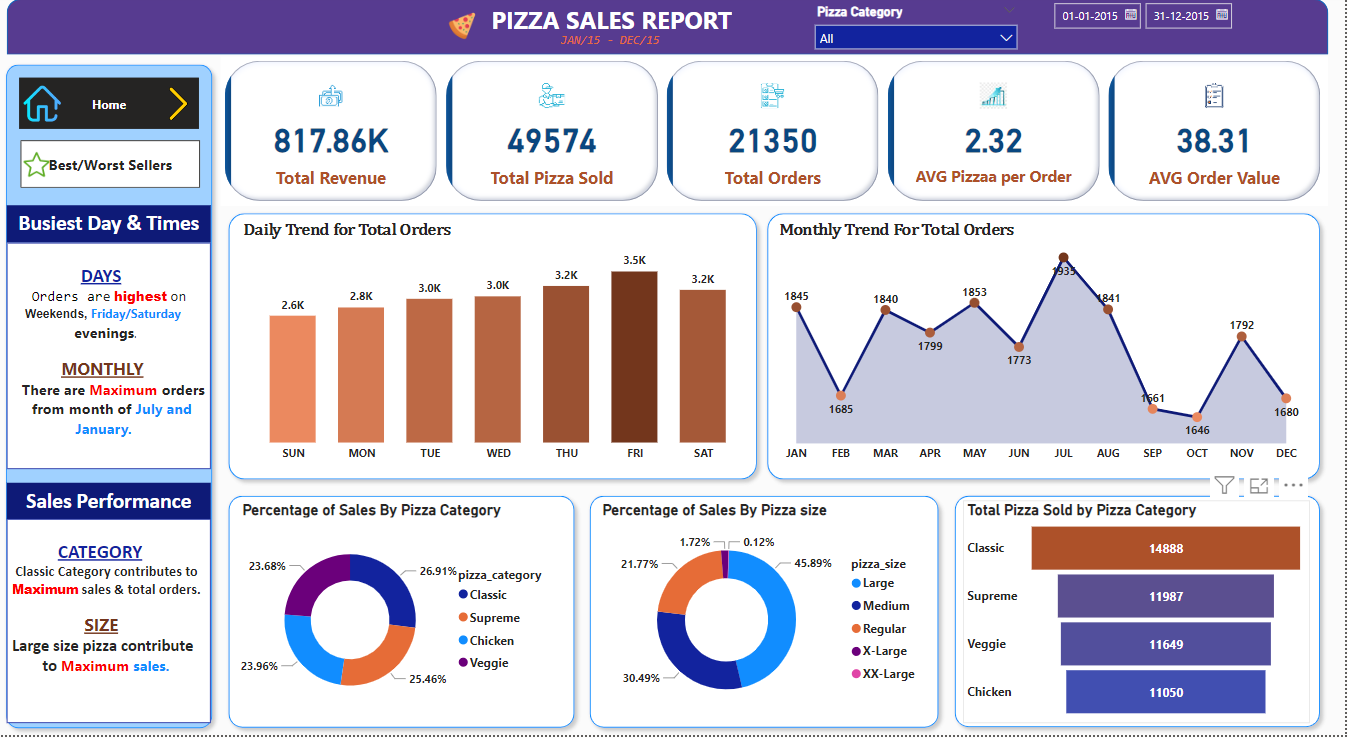

The page's visual inventory and layout, read from the dashboard file:
{"tool":"powerbi","page":{"name":"Home","canvas":[1500,820],"ordinal":0},"visuals":[{"type":"shape","box":[9.9,0,1471.8,62],"z":0,"group":"g1"},{"type":"cardVisual","fields":{"Data":["pizza_sales.Total Reveue","pizza_sales.Total Pizza Sold","pizza_sales.Total Orders","pizza_sales.Avg Pizzaa per Order","pizza_sales.AVG Order Value"]},"box":[247.6,63.5,1233.3,166.7],"z":0},{"type":"group","id":"g1","title":"Group 1","box":[9.9,0,1471.8,62],"z":1000},{"type":"textbox","box":[537.4,0,291.8,62],"z":1000,"group":"g1"},{"type":"textbox","box":[612.7,31,138,31],"z":2000},{"type":"image","box":[475.6,9.6,81.9,40.2],"z":3000},{"type":"shape","box":[247.6,230.2,606.3,314.3],"z":4000},{"type":"columnChart","title":"Daily Trend for Total Orders","fields":{"Category":["pizza_sales.Order day"],"Y":["pizza_sales.Total Orders"]},"box":[266.7,246,581,277.8],"z":5000},{"type":"shape","box":[847.6,230.2,633.3,314.3],"z":6000},{"type":"areaChart","title":"Monthly Trend For Total Orders","fields":{"Y":["pizza_sales.Total Orders"],"Category":["pizza_sales.Order Month"]},"box":[865.1,246,595.2,277.8],"z":7000},{"type":"shape","box":[247.6,544.4,403.2,276.2],"z":8000},{"type":"shape","box":[1056.7,544.3,424.6,275.7],"z":9000},{"type":"shape","box":[650.8,544.4,406.3,276.2],"z":10000},{"type":"donutChart","title":"Percentage of Sales By Pizza Category","fields":{"Category":["pizza_sales.pizza_category"],"Y":["pizza_sales.Total Reveue"]},"box":[266.7,558.7,365.1,247.6],"z":11000},{"type":"donutChart","title":"Percentage of Sales By Pizza size","fields":{"Category":["pizza_sales.pizza_size"],"Y":["pizza_sales.Total Reveue"]},"box":[668.3,558.7,369.8,247.6],"z":12000},{"type":"funnel","title":"Total Pizza Sold by Pizza Category","fields":{"Category":["pizza_sales.pizza_category"],"Y":["pizza_sales.Total Pizza Sold"]},"box":[1074.8,558.3,385.6,247.8],"z":13000},{"type":"shape","box":[0,63.5,247.6,757.1],"z":14000},{"type":"textbox","box":[9.5,230.2,227,41.3],"z":15000},{"type":"textbox","box":[9.5,271.4,227,252.4],"z":16000},{"type":"textbox","box":[9.5,538.1,227,41.3],"z":17000},{"type":"textbox","box":[9.5,579.4,227,227],"z":18000},{"type":"slicer","fields":{"Values":["pizza_sales.pizza_category"]},"box":[900,0,246,57.1],"z":19000},{"type":"slicer","fields":{"Values":["pizza_sales.order_date"]},"box":[1163.2,0,224.9,64.3],"z":20000},{"type":"pageNavigator","box":[24.1,88.4,200.8,57.8],"z":20001},{"type":"pageNavigator","box":[25.7,157.5,200.8,53],"z":20002},{"type":"image","box":[24.1,88.4,51.4,57.8],"z":20004},{"type":"image","box":[154.2,93.2,93.2,46.6],"z":20005},{"type":"image","box":[24.1,163.9,38.6,40.2],"z":20006}]}

Visuals, with their boxes in screenshot pixels (x1, y1, x2, y2), scaled from the page's 1500x820 canvas onto the 1348x738 screenshot:
shape: 9:0:1332:56
cardVisual - pizza_sales.Total Reveue x pizza_sales.Total Pizza Sold: 223:57:1331:207
"Group 1" group: 9:0:1332:56
textbox: 483:0:745:56
textbox: 551:28:675:56
image: 427:9:501:45
shape: 223:207:767:490
"Daily Trend for Total Orders" columnChart: 240:221:762:471
shape: 762:207:1331:490
"Monthly Trend For Total Orders" areaChart: 777:221:1312:471
shape: 223:490:585:737
shape: 950:490:1331:737
shape: 585:490:950:737
"Percentage of Sales By Pizza Category" donutChart: 240:503:568:726
"Percentage of Sales By Pizza size" donutChart: 601:503:933:726
"Total Pizza Sold by Pizza Category" funnel: 966:502:1312:725
shape: 0:57:223:737
textbox: 9:207:213:244
textbox: 9:244:213:471
textbox: 9:484:213:521
textbox: 9:521:213:726
slicer - pizza_sales.pizza_category: 809:0:1030:51
slicer - pizza_sales.order_date: 1045:0:1247:58
pageNavigator: 22:80:202:132
pageNavigator: 23:142:204:189
image: 22:80:68:132
image: 139:84:222:126
image: 22:148:56:184
